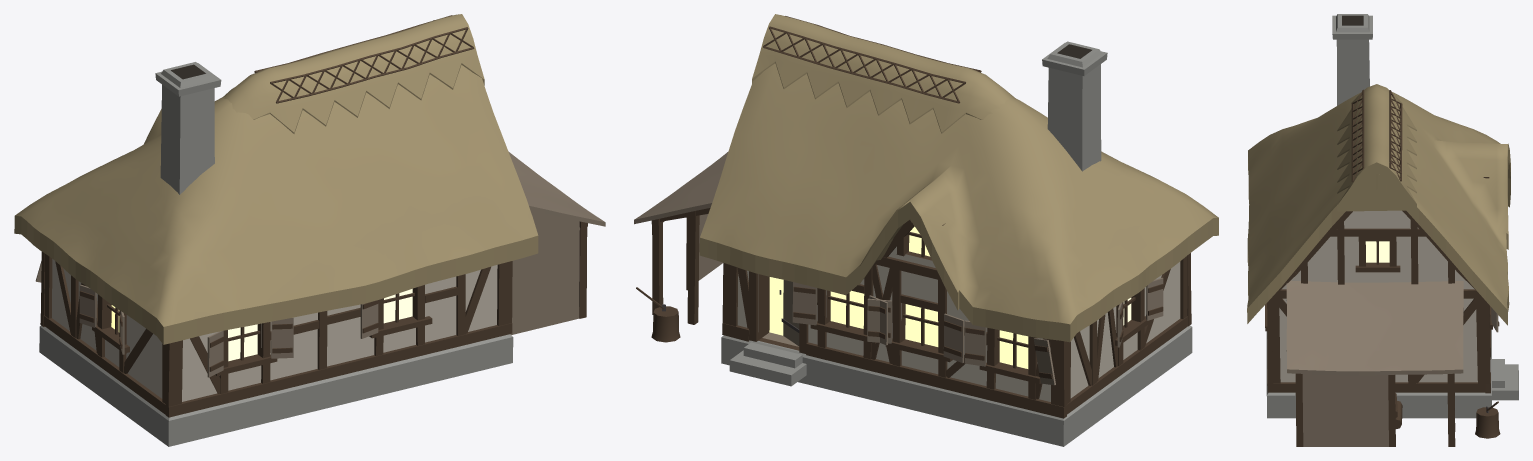
File: house_b.glb
3 renders of one model, left to right at view 1: azimuth 30°, elevation 25°; view 2: azimuth 150°, elevation 25°; view 3: azimuth 270°, elevation 25°, orthographic. The views are drawn at different scales.
Parts seen in each view (by area): view 1: house_b, window_6, window_7; view 2: house_b, window_3, window_2, window_1, window_4; view 3: house_b, window_9.
Part boxes in pixels (<box>): house_b: <box>14,14,605,446</box>; window_6: <box>228,324,257,361</box>; window_7: <box>383,289,412,323</box>; house_b: <box>634,14,1218,446</box>; window_3: <box>905,304,938,346</box>; window_2: <box>830,290,864,328</box>; window_1: <box>769,277,783,335</box>; window_4: <box>999,330,1028,368</box>; house_b: <box>1247,14,1518,446</box>; window_9: <box>1365,241,1389,262</box>.
Bounding box in the file's own units: 10.88 × 7.15 × 6.28.
